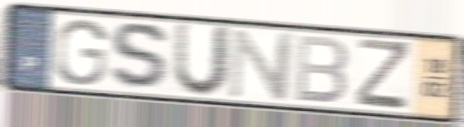B: (293, 33, 351, 106)
G: (53, 17, 110, 87)
N: (226, 27, 297, 102)
S: (107, 20, 175, 94)
U: (170, 20, 235, 100)
Z: (353, 37, 412, 113)
